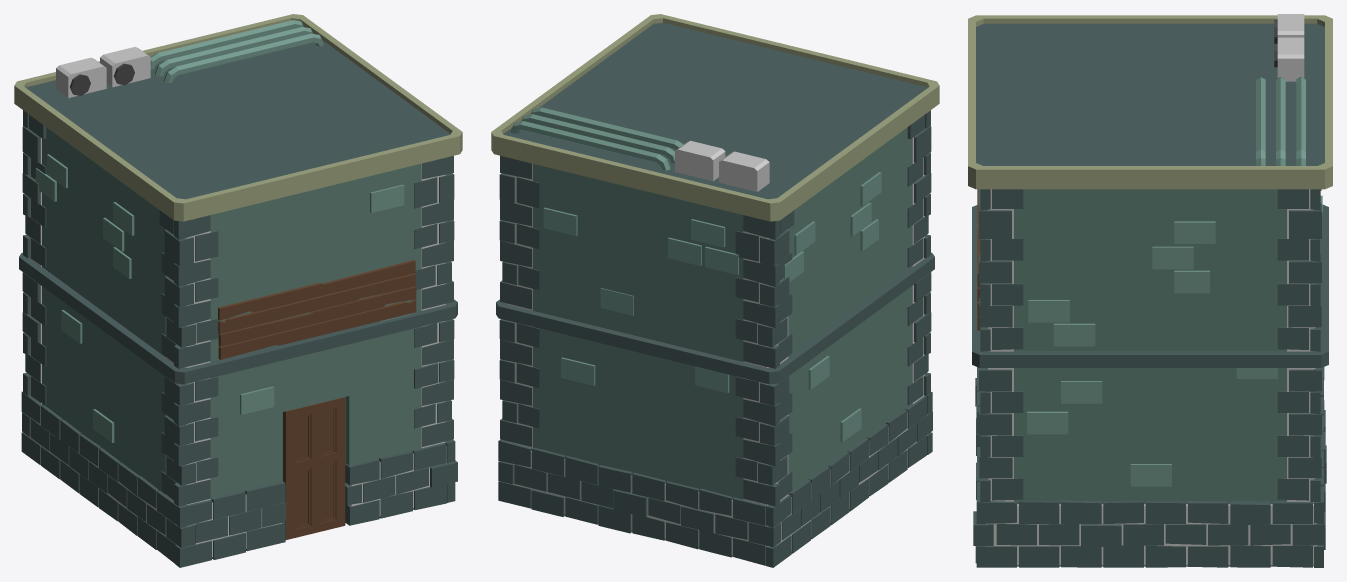
File: 2Story_Sign_Mat.glb
3 views of the same model, side by side, from view 1: azimuth 30°, elevation 25°; view 2: azimuth 150°, elevation 25°; view 3: azimuth 270°, elevation 25° (orthographic). The views are drawn at different scales.
Parts seen in each view (by area): view 1: 2Story_Sign_Mat; view 2: 2Story_Sign_Mat; view 3: 2Story_Sign_Mat.
Part boxes in pixels (box(x1,y1,x2,y2)): 2Story_Sign_Mat: box(14, 14, 462, 567); 2Story_Sign_Mat: box(491, 14, 939, 567); 2Story_Sign_Mat: box(968, 14, 1332, 567).
Bounding box in the file's own units: 2.15 × 2.76 × 2.15.
